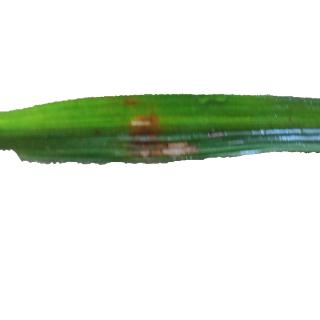Hawar-Daun: (131, 109, 164, 160), (157, 134, 198, 161), (122, 95, 136, 108)
